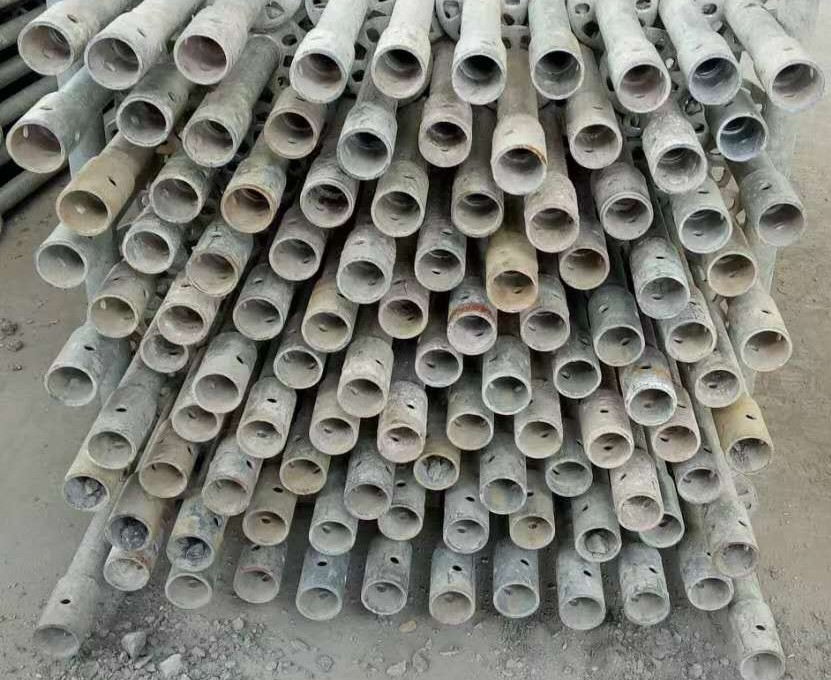blocked_circle_steel: (574, 526, 626, 564)
circle_steel: (486, 137, 554, 197), (12, 20, 78, 79), (2, 119, 69, 176), (447, 47, 508, 108), (763, 57, 824, 117), (83, 35, 144, 94), (289, 46, 351, 104), (686, 50, 745, 110), (525, 47, 587, 104), (170, 31, 233, 87), (597, 187, 657, 245), (649, 140, 711, 196), (180, 112, 242, 168), (613, 59, 673, 116), (367, 45, 429, 100), (365, 185, 427, 239), (30, 241, 92, 295), (52, 184, 115, 237), (521, 200, 581, 255), (445, 187, 507, 240), (750, 194, 808, 249), (219, 184, 279, 237), (182, 247, 242, 300), (567, 118, 624, 173), (262, 108, 321, 161), (675, 204, 734, 257), (415, 116, 475, 168), (145, 174, 204, 226), (711, 113, 771, 164), (335, 129, 395, 180), (116, 95, 171, 150), (295, 181, 356, 229), (553, 245, 612, 294), (442, 308, 500, 357), (485, 266, 541, 316), (120, 228, 176, 278), (295, 307, 355, 353), (230, 297, 287, 345), (42, 363, 99, 411), (96, 510, 158, 554), (332, 259, 391, 305), (263, 237, 323, 282), (619, 381, 679, 426), (411, 247, 467, 295), (152, 302, 211, 347), (737, 327, 792, 375), (636, 273, 691, 320), (84, 295, 140, 341), (663, 320, 719, 366), (374, 294, 426, 343), (271, 346, 325, 393), (189, 371, 245, 416), (161, 533, 224, 573), (592, 322, 645, 369), (334, 374, 388, 420), (83, 427, 137, 472), (721, 432, 778, 474), (477, 471, 529, 517), (705, 252, 758, 297), (519, 309, 572, 354), (235, 415, 288, 460), (583, 426, 636, 471), (481, 372, 532, 418), (26, 622, 86, 661), (229, 564, 282, 608), (136, 333, 190, 376), (198, 477, 256, 517), (306, 416, 361, 458), (166, 404, 222, 445), (134, 460, 190, 501), (554, 590, 608, 632), (158, 572, 220, 608), (58, 474, 111, 516), (275, 456, 328, 498), (489, 579, 542, 621), (303, 519, 360, 558), (542, 459, 596, 500), (692, 366, 742, 410), (613, 491, 663, 535), (413, 346, 464, 389), (708, 537, 761, 578), (98, 555, 155, 593), (445, 411, 497, 452), (554, 356, 601, 401), (372, 423, 424, 463), (512, 421, 563, 461), (292, 584, 343, 624), (508, 513, 559, 553), (409, 454, 462, 492), (651, 424, 701, 464), (342, 481, 392, 521), (621, 588, 672, 627), (684, 574, 735, 613), (427, 585, 475, 626), (240, 511, 293, 548), (374, 504, 425, 542), (677, 464, 724, 505), (437, 519, 493, 553), (638, 513, 689, 550), (359, 579, 408, 617)
